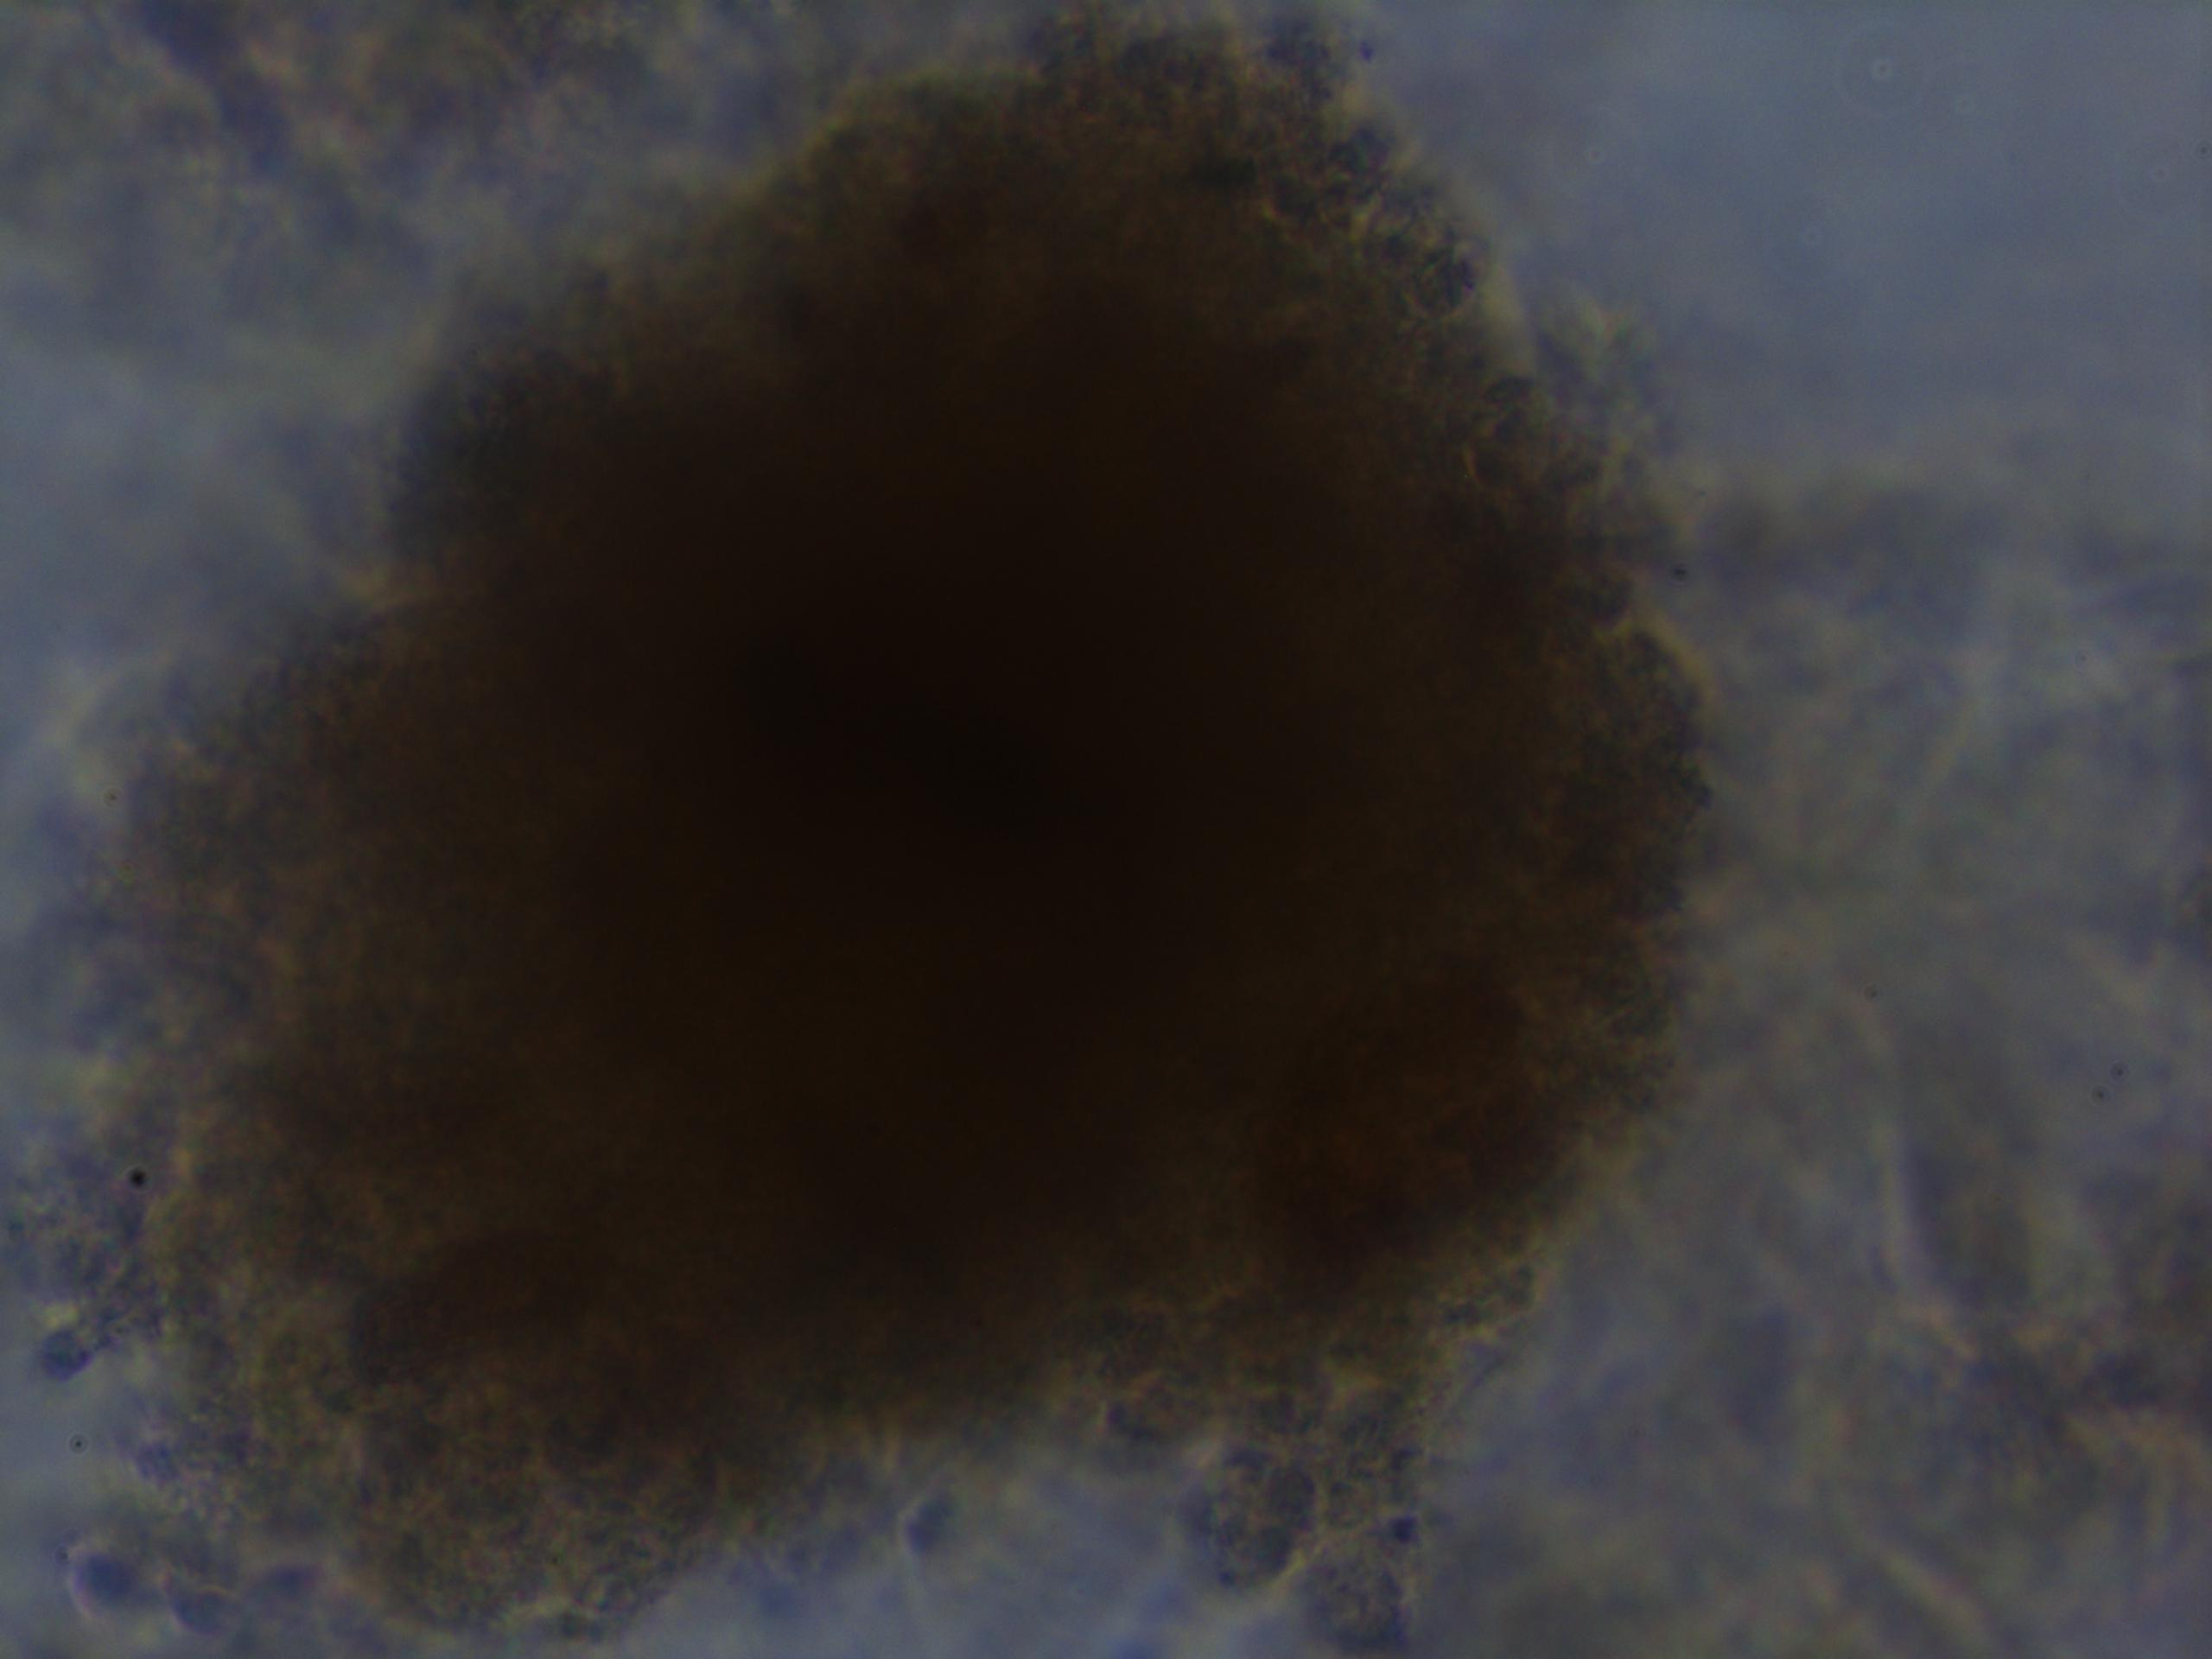spherical_floc: (139, 7, 1712, 1636)
